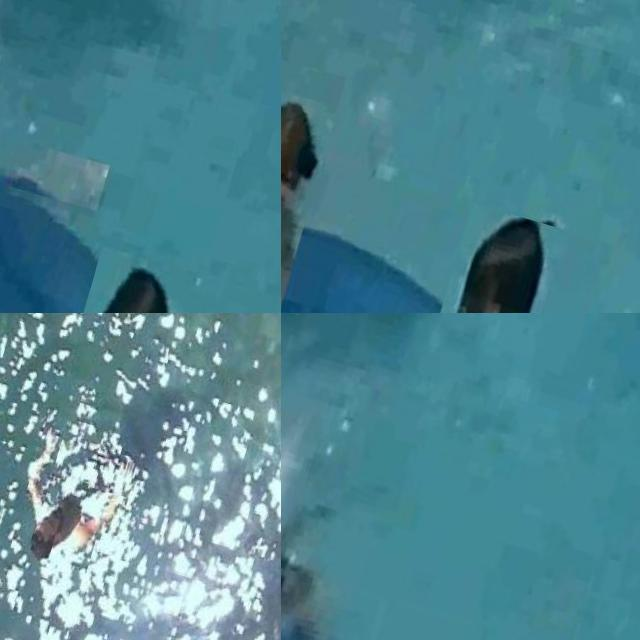drowning: (281, 24, 345, 310), (281, 428, 363, 628), (0, 106, 108, 211)
swimming: (2, 424, 138, 586), (411, 202, 607, 313), (38, 245, 281, 313)
